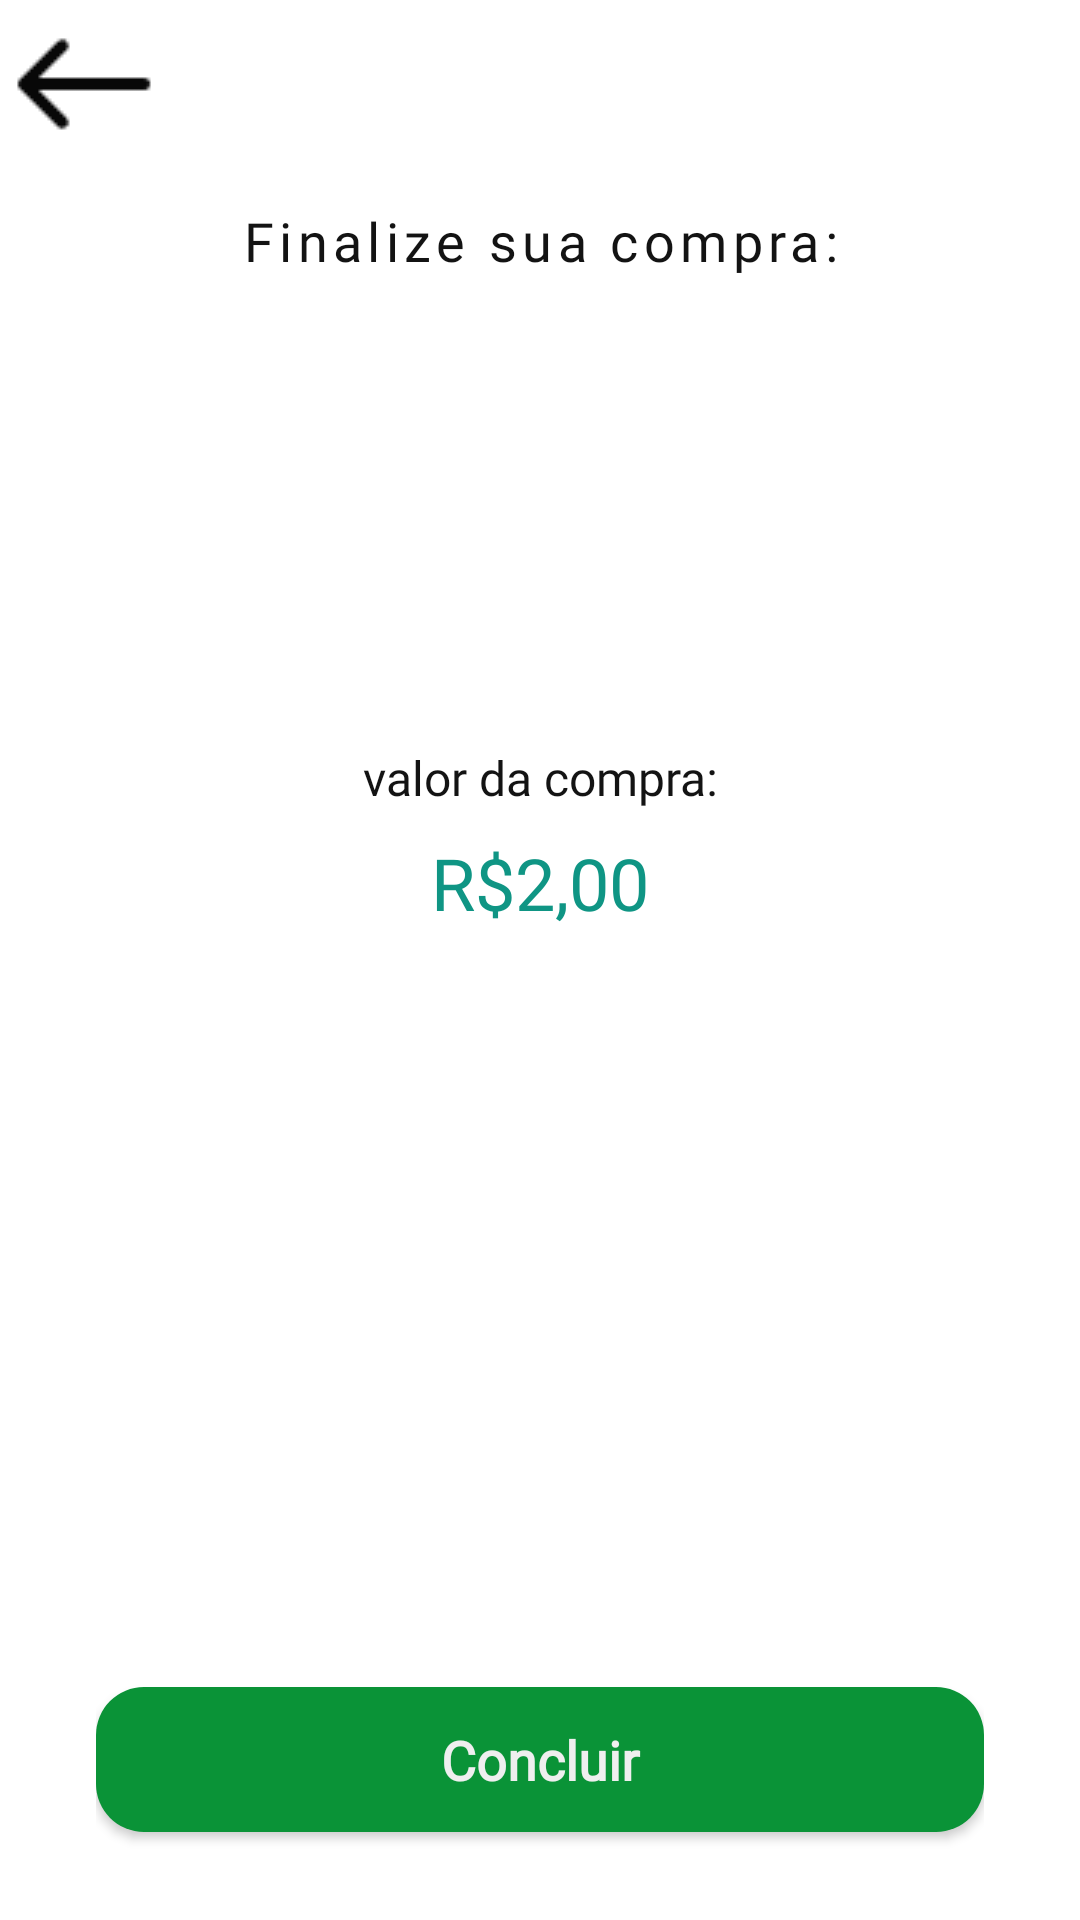

Where icons sit on this 1080 × 1920 app screen, as (x1, y1, x2, y2):
left arrow: (17, 38, 151, 130)
